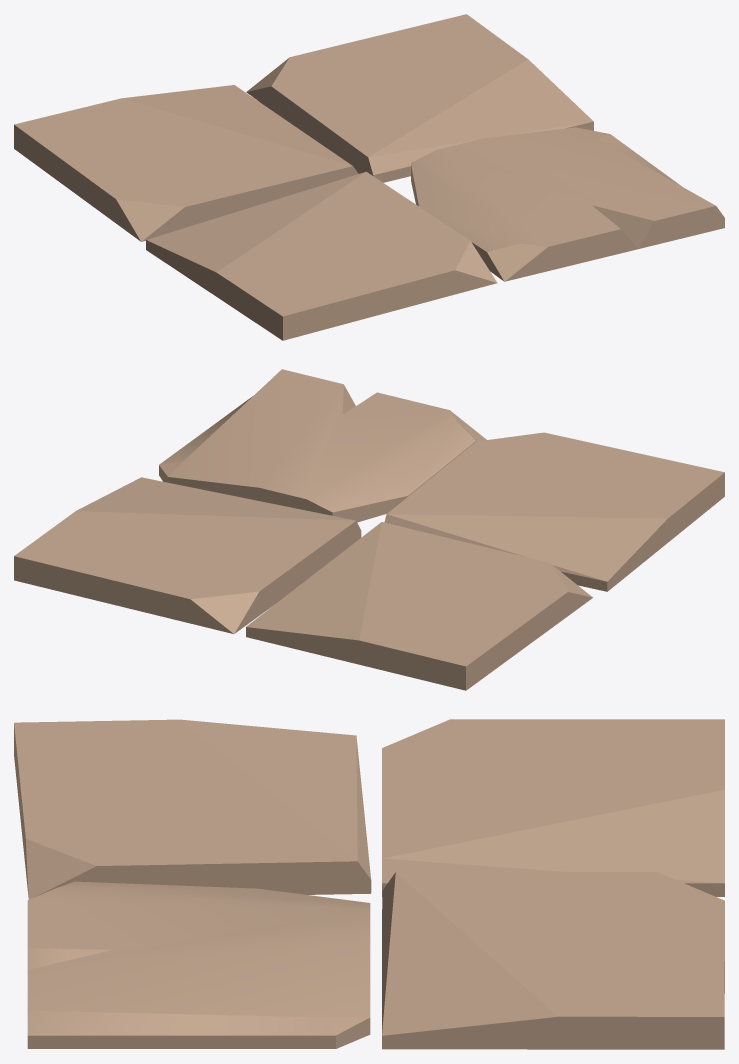
The model's file is lost_stonewalk.glb.
The picture shows the model from 3 angles, top to bottom: view 1: azimuth 30°, elevation 25°; view 2: azimuth 150°, elevation 25°; view 3: azimuth 270°, elevation 25°; orthographic projection. The views are drawn at different scales.
Parts seen in each view (by area): view 1: Stonewalk_001; view 2: Stonewalk_001; view 3: Stonewalk_001.
Part boxes in pixels (x1,y1,x2,y2): Stonewalk_001: (14, 14, 724, 340); Stonewalk_001: (14, 369, 724, 690); Stonewalk_001: (14, 719, 724, 1049).
Size of the model in its own units: 51.23 by 2.6 by 51.23.
